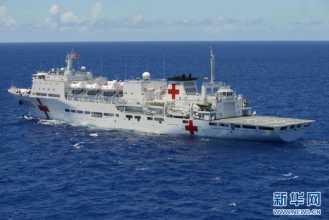warship: (11, 44, 314, 147)
